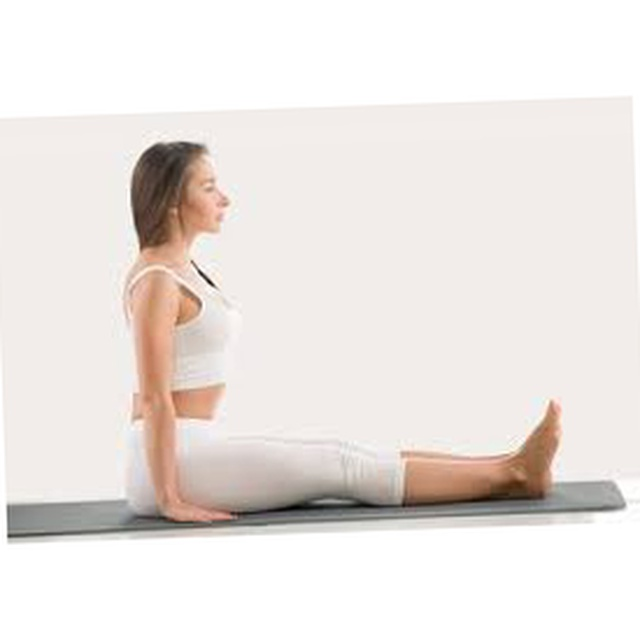Staff_Pose: (121, 140, 566, 525)
